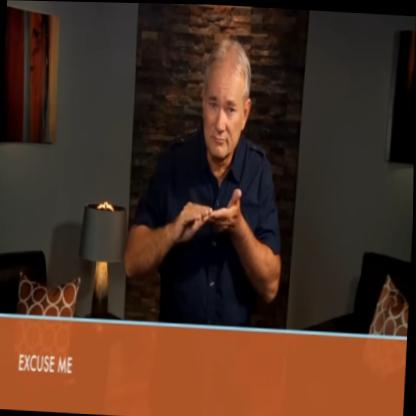ExcuseMe: (127, 25, 294, 328)
